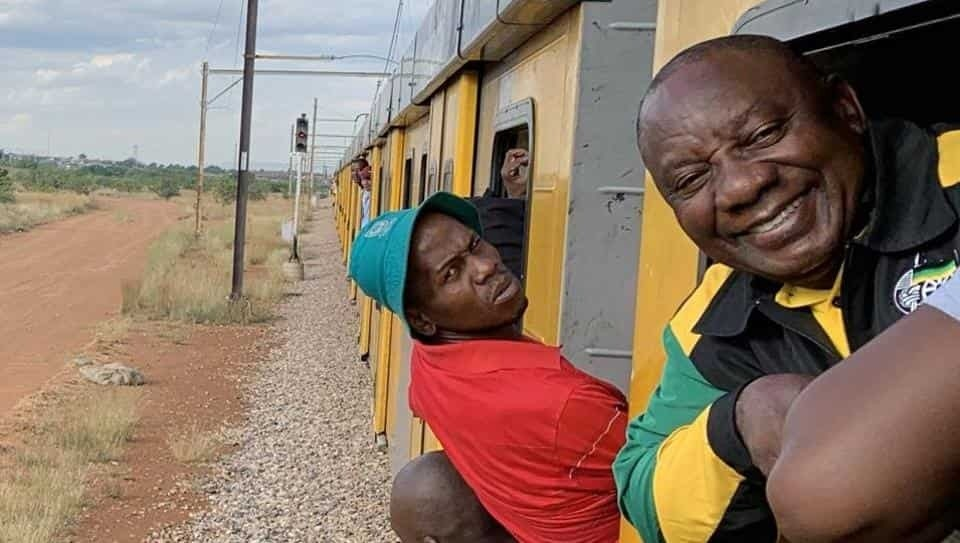face_no_mask: (633, 34, 867, 281), (369, 213, 537, 337)
